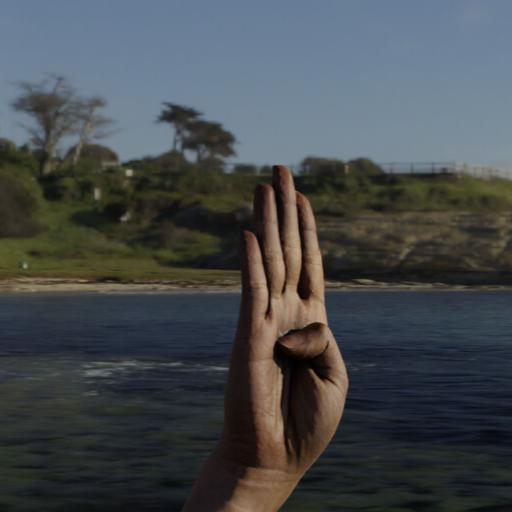B: (221, 162, 350, 473)
